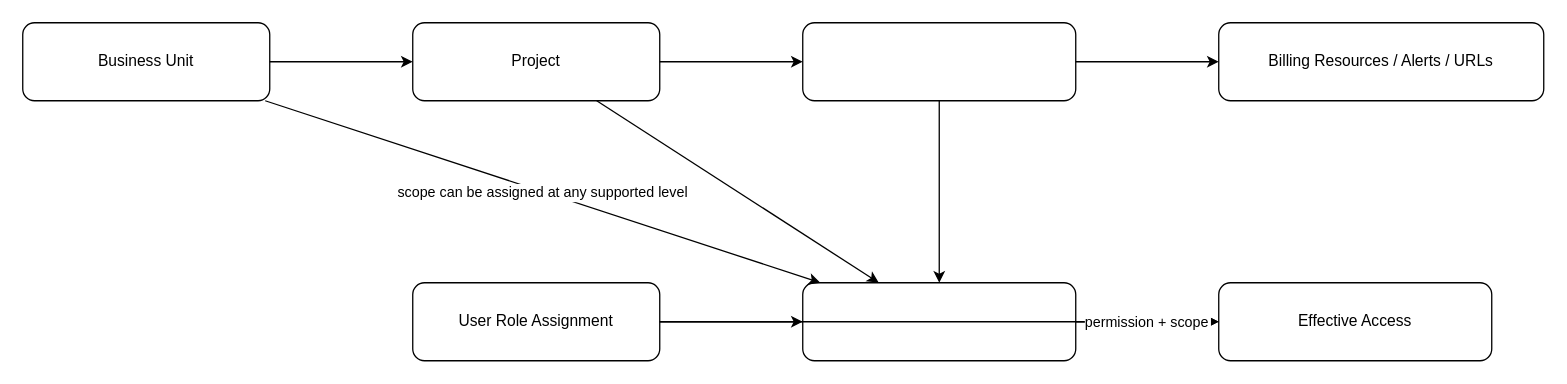
The diagram is 1567 pixels wide and 384 high, and some of its shapes have lost their labels. The shapes that lost their labels are listed below. From the top down, each one's box as (x1, y1, x2, y2) in pixels, then its label:
(801, 21, 1076, 101): Azure Subscription
(801, 281, 1076, 361): Resource Access Scope
